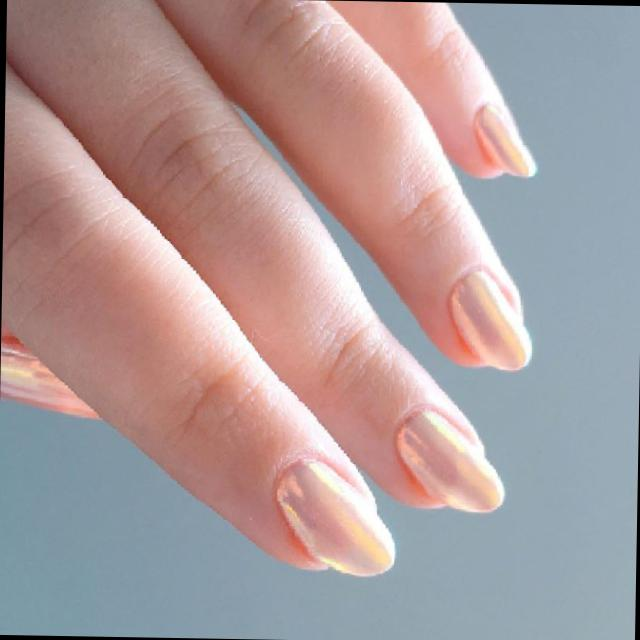Nail: (275, 461, 391, 576), (396, 412, 501, 512), (0, 326, 95, 415), (448, 270, 530, 370), (474, 104, 534, 177)
